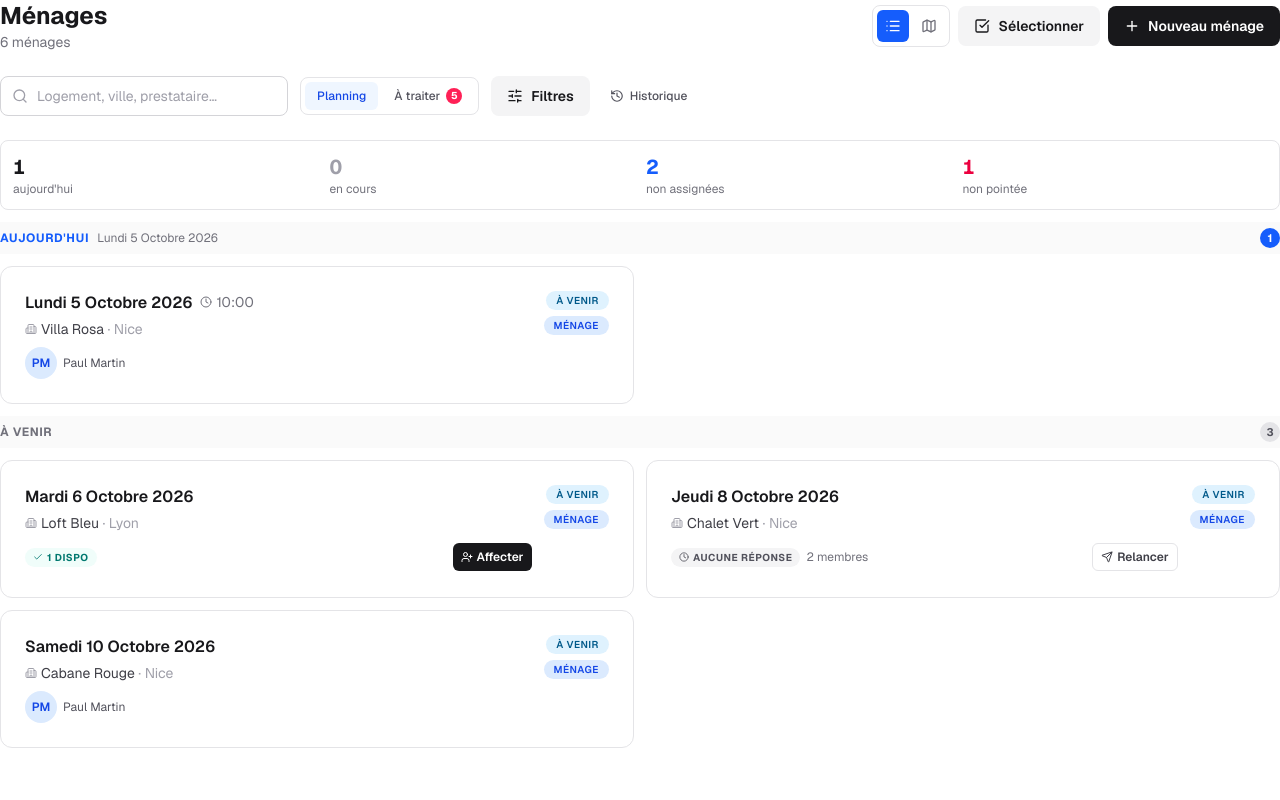
Test case: Liste des prestations — vue Planning › « Affecter » ouvre la modale d'affectation de cette prestation
Check: the heading "Aujourd'hui" is shown, box [0, 230, 89, 246]
Click the button "Affecter": click(492, 557) [452, 543, 532, 571]
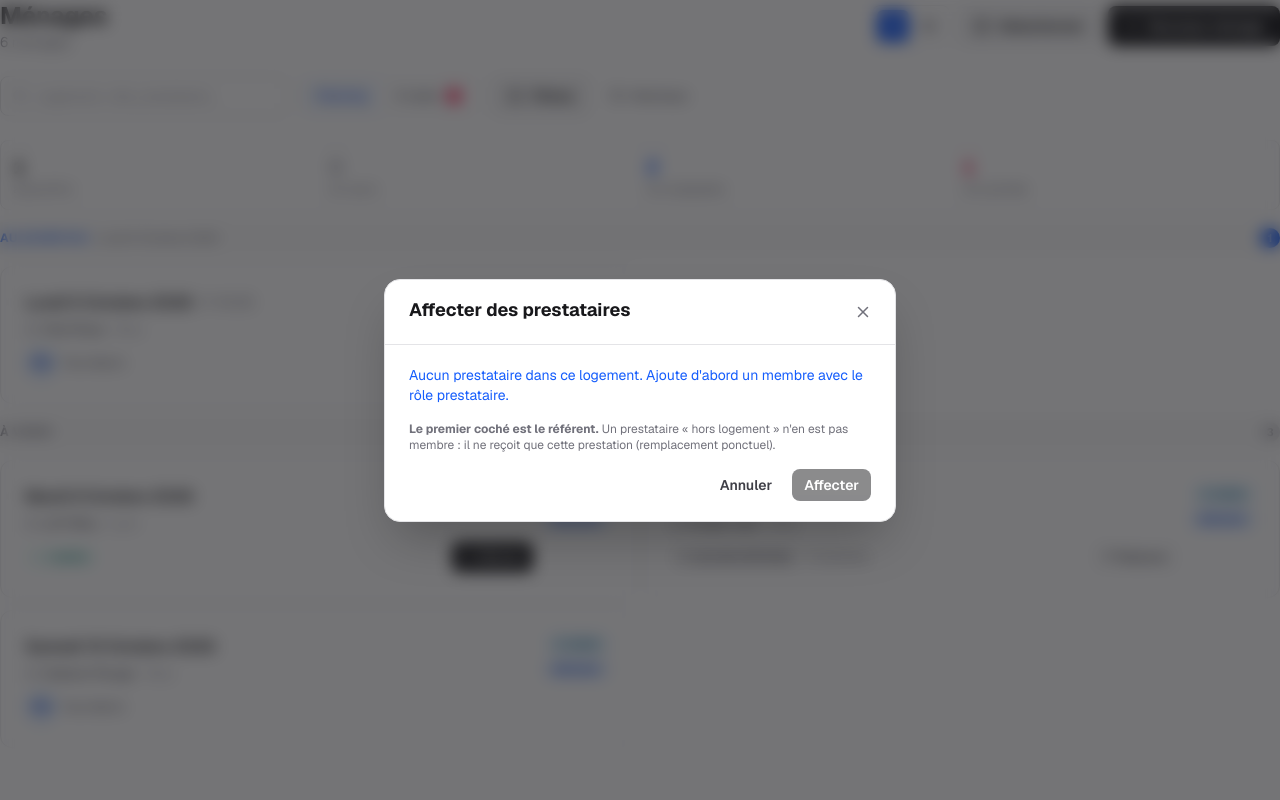
Check: the heading "Affecter des prestataires" is shown, box [409, 296, 630, 324]
